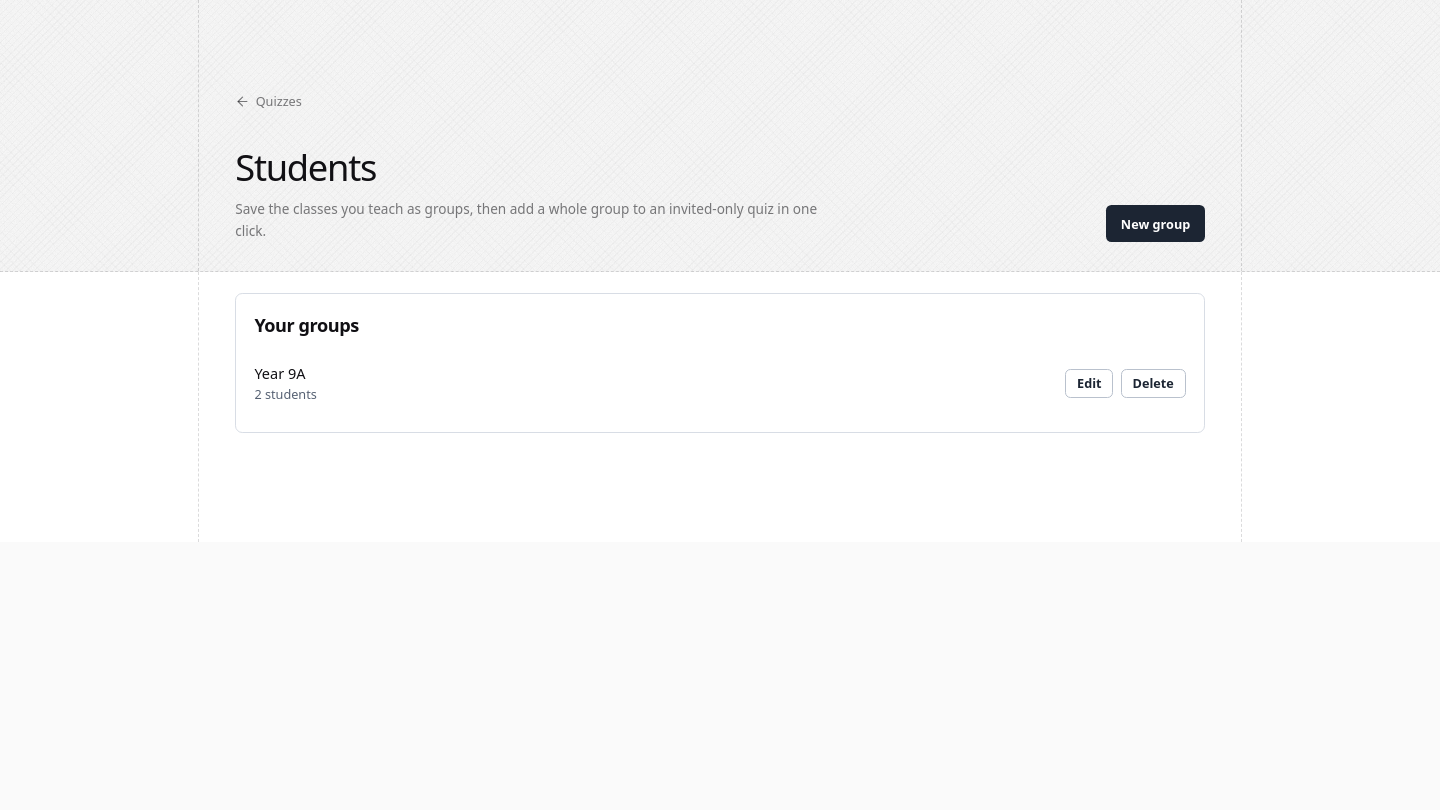
Test: GroupsPage › points out a bad line and does not add anything
Step 1. Click the button "New group" → (1156, 224), box [1106, 206, 1205, 242]
(page scrolled)
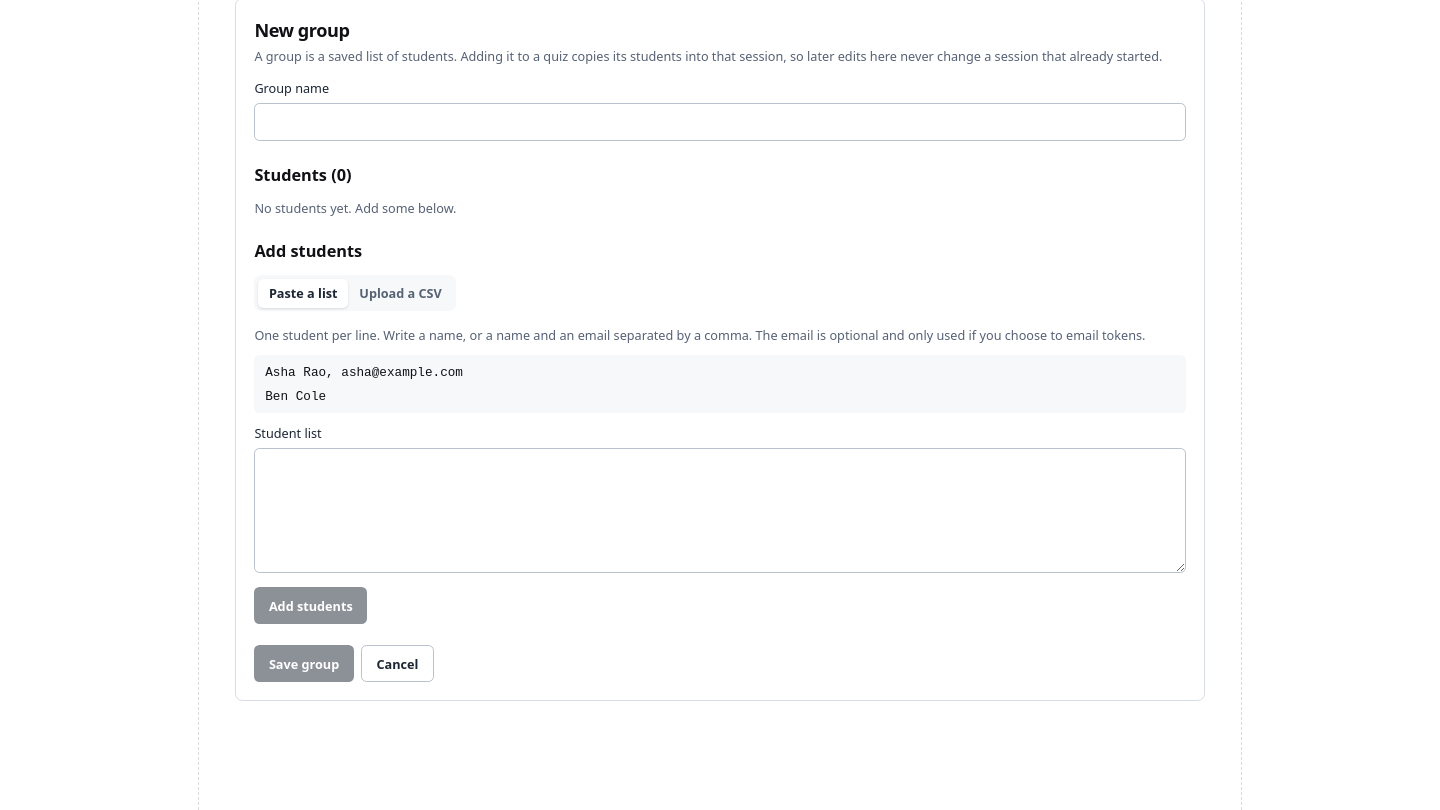
Step 2. Type "Asha, not-an-email" into the text box labelled "Student list" → (720, 510), box [254, 448, 1186, 573]
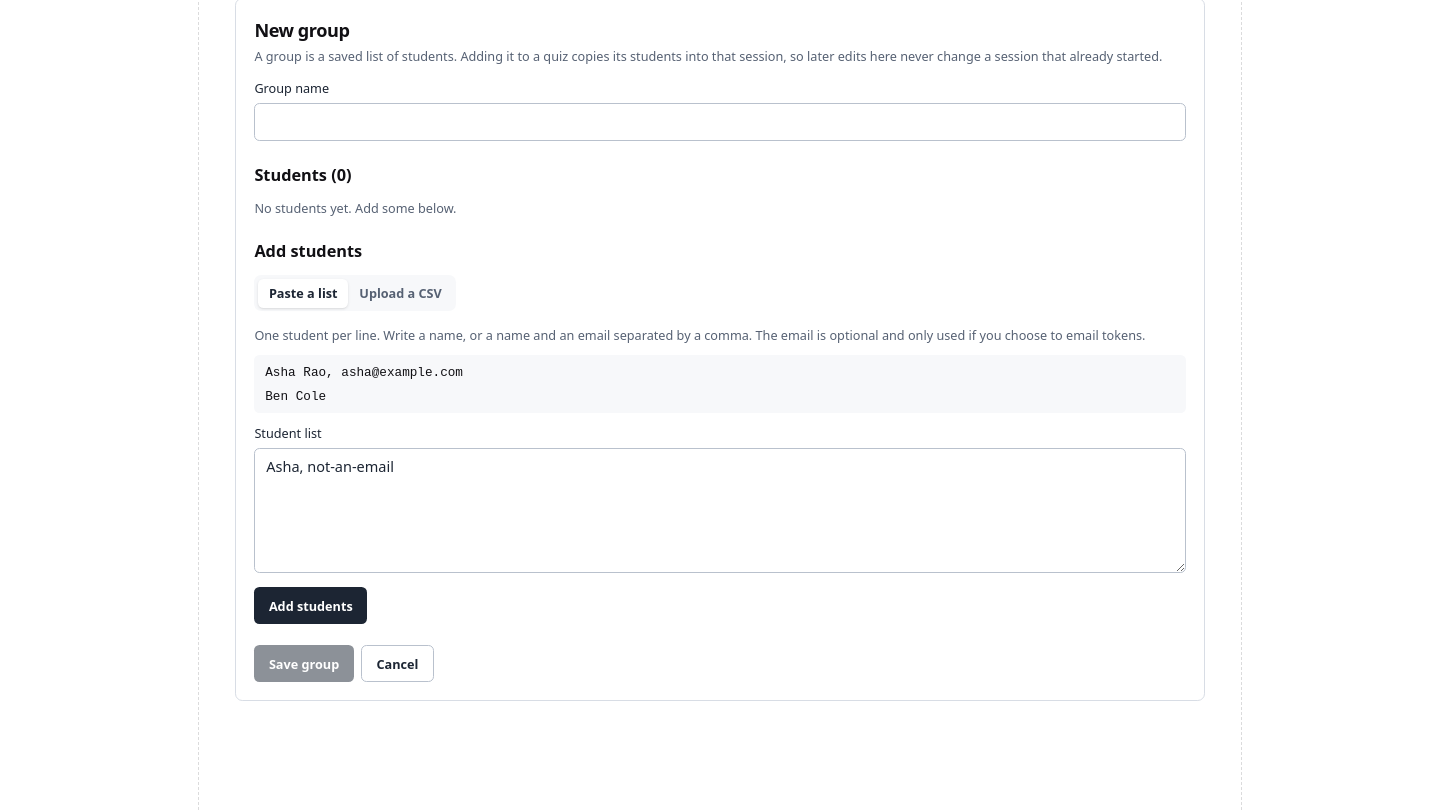
Step 3. Click the button "Add students" → (311, 606), box [254, 588, 367, 624]
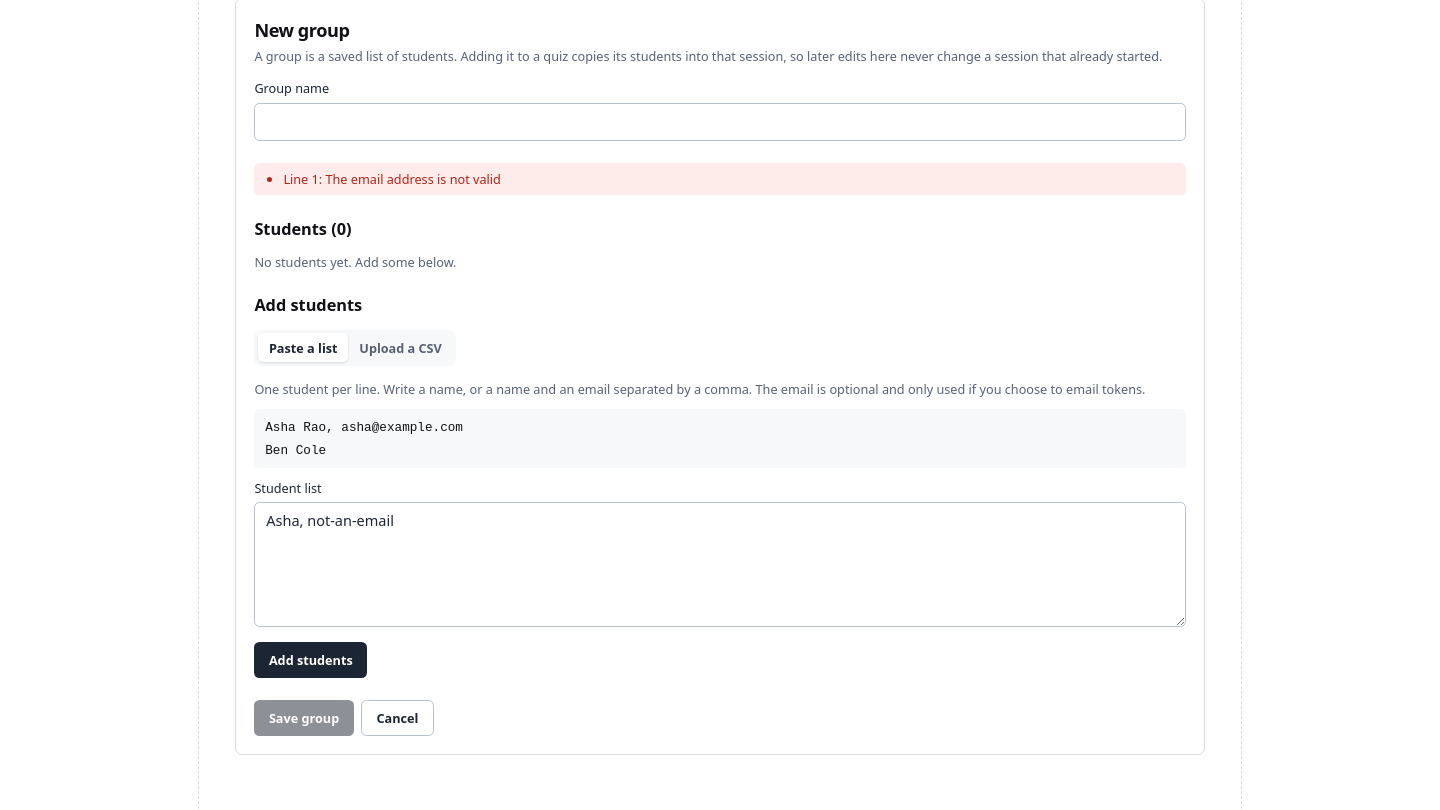
Now the list item "Line 1: The email address is not valid" is shown, box [283, 170, 501, 188]
